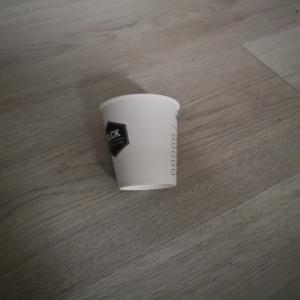Cup: (98, 94, 182, 192)
